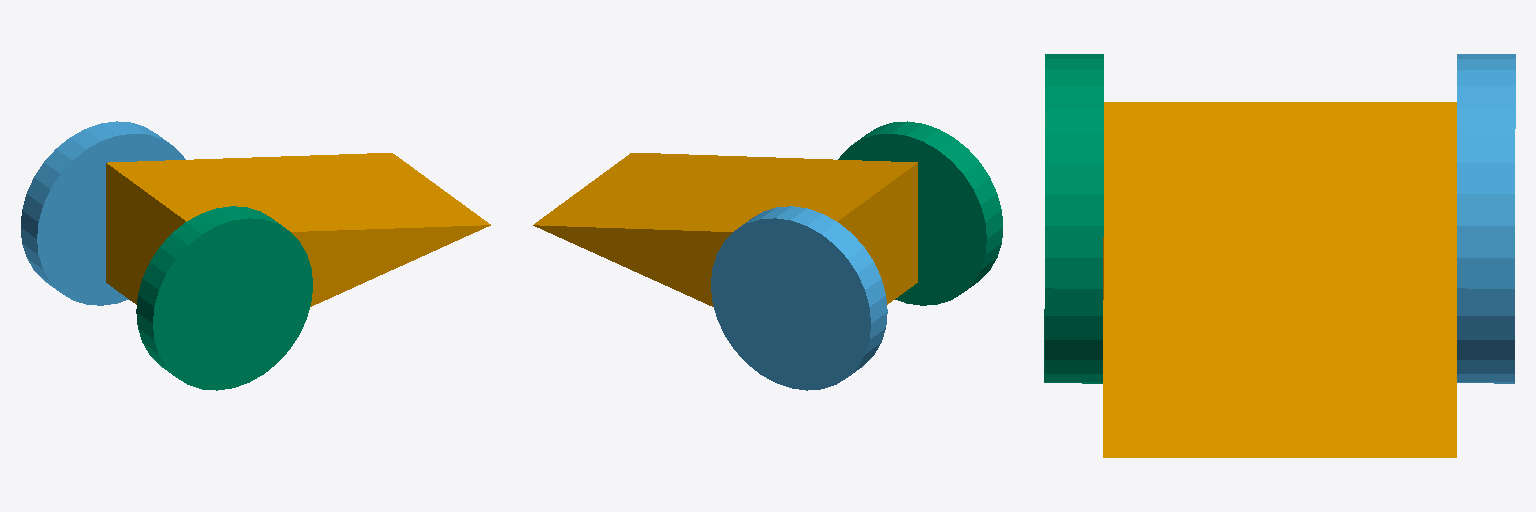
The robot description file, URDF, robot "differential_drive_robot":
<?xml version="1.0"?>
<robot name="differential_drive_robot">
  <link name="base_link">
      <contact>
      <rolling_friction value="0.000" />
      <lateral_friction value="0.0" />
      <spinning_friction value="0.00" />
    </contact>
    <visual>
      <origin xyz="0 0 0" rpy="1.57 0 0" />
      <geometry>
        <mesh filename="body.stl" />
      </geometry>
    </visual>
    <collision>
      <origin xyz="0 0 0" rpy="1.57 0 0" />
      <geometry>
        <mesh filename="body.stl" />
      </geometry>
    </collision>
    <inertial>
      <mass value="2.3" />
      <origin xyz="0.1 0 0" rpy="0 0 0" />
      <inertia ixx="0.0001" ixy="0" ixz="0" iyy="0.0001" iyz="0" izz="0.001" />
    </inertial>
  </link>

  <link name="left_wheel">
    <!-- <contact>
      <rolling_friction value="0.001" />
      <lateral_friction value="0.5" />
      <spinning_friction value="0.005" />
    </contact> -->
    <visual>
      <origin xyz="0 0 0" rpy=" 1.57 0 0" />
      <geometry>
        <cylinder length="0.05" radius="0.14" />
      </geometry>
      <!-- <material name="Cyan"> 14 <color rgba="0 1.0 1.0 1.0" /> 15 </material> -->
    </visual>
    <collision>
      <origin xyz="0 0 0" rpy=" 1.57 0 0" />
      <geometry>
        <cylinder length="0.05" radius="0.14" />
      </geometry>
    </collision>
    <inertial>
      <mass value="0.2" />
      <inertia ixx="0.01" ixy="0" ixz="0" iyy="0.01" iyz="0" izz="0.01" />
    </inertial>
  </link>

  <link name="right_wheel">
    <contact>
      <rolling_friction value="0.001" />
      <lateral_friction value="0.5" />
    </contact>
    <visual>
      <origin xyz="0 0 0" rpy=" 1.57 0 0" />
      <geometry>
        <cylinder length="0.05" radius="0.14" />
      </geometry>
    </visual>
    <collision>
      <origin xyz="0 0 0" rpy=" 1.57 0 0" />
      <geometry>
        <cylinder length="0.05" radius="0.14" />
      </geometry>
    </collision>
    <inertial>
      <mass value="0.2" />
      <origin xyz="0 0 0" rpy="0 0 0" />
      <inertia ixx="0.01" ixy="0" ixz="0" iyy="0.01" iyz="0" izz="0.01" />
    </inertial>
  </link>
  <!-- 
  <link name="caster">
    <visual>
      <geometry>
        <sphere radius="0.05" />
      </geometry>
    </visual>
    <collision>
      <geometry>
        <sphere radius="0.05" />
      </geometry>
    </collision>
    <inertial>
      <mass value="0.1" />
      <origin xyz="0 0 0" rpy="0 0 0" />
      <inertia ixx="0.0001" ixy="0" ixz="0" iyy="0.0001" iyz="0" izz="0.0001" />
    </inertial>
  </link> -->

  <!-- <joint name="base_link_to_caster" type="fixed">
    <parent link="base_link" />
    <child link="caster" />
    <origin xyz="0.25 0 -0.1" />
  </joint> -->

  <joint name="left_wheel_joint" type="continuous">
    <parent link="base_link" />
    <child link="left_wheel" />
    <origin xyz="0.02 0.175 0" rpy="0 0 0" />
    <axis xyz="0 1 0" />
    <!-- <limit effort="100" velocity="5" /> -->
  </joint>

  <joint name="right_wheel_joint" type="continuous">
    <parent link="base_link" />
    <child link="right_wheel" />
    <origin xyz="0.02 -0.175 0" rpy="0 0 0" />
    <axis xyz="0 1 0" />
  </joint>
</robot>

--- What the picture shows (computed from the rendered views, not written in the file) ---
The picture shows the robot from 3 angles, left to right: view 1: azimuth 30°, elevation 25°; view 2: azimuth 150°, elevation 25°; view 3: azimuth 270°, elevation 25°; orthographic projection.
Model differential_drive_robot with 3 links and 2 joints (2 continuous), rooted at base_link, posed all joints at 0.
Links seen in each view (by area): view 1: base_link, right_wheel, left_wheel; view 2: base_link, left_wheel, right_wheel; view 3: base_link, right_wheel, left_wheel.
Boxes of the visible links, x1,y1,x2,y2 form: base_link: (106,153,490,306); right_wheel: (136,206,312,390); left_wheel: (21,121,185,305); base_link: (533,153,917,306); left_wheel: (711,206,887,390); right_wheel: (838,121,1002,305); base_link: (1103,102,1456,457); right_wheel: (1044,54,1103,383); left_wheel: (1457,54,1515,383).
Size in the robot's own frame: 0.62 by 0.4002 by 0.28 metres.
1 mesh visuals loaded from 1 distinct referenced files (1 binary STL).